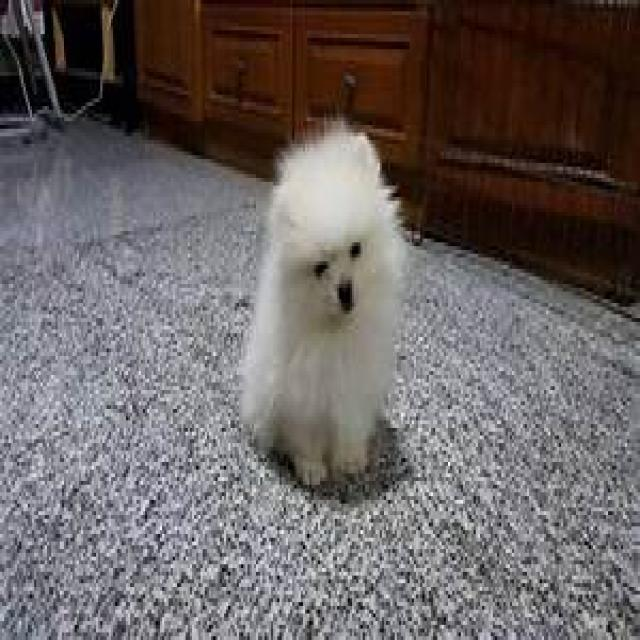dog: (239, 117, 410, 504)
